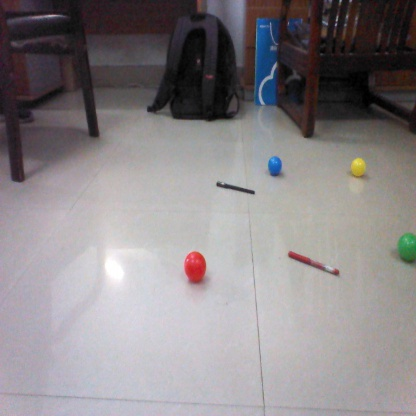ball: (182, 250, 209, 284), (394, 234, 416, 261), (266, 155, 287, 178), (347, 155, 368, 178)
pen: (286, 249, 341, 275), (213, 181, 256, 196)
